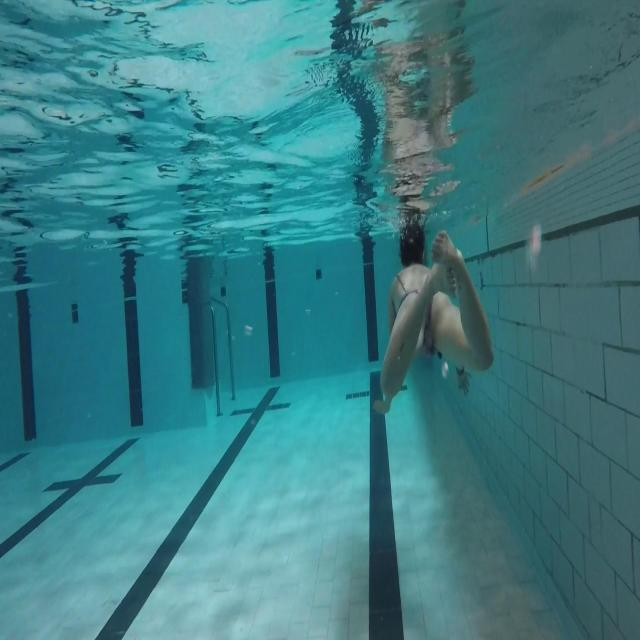human: (372, 219, 494, 415)
